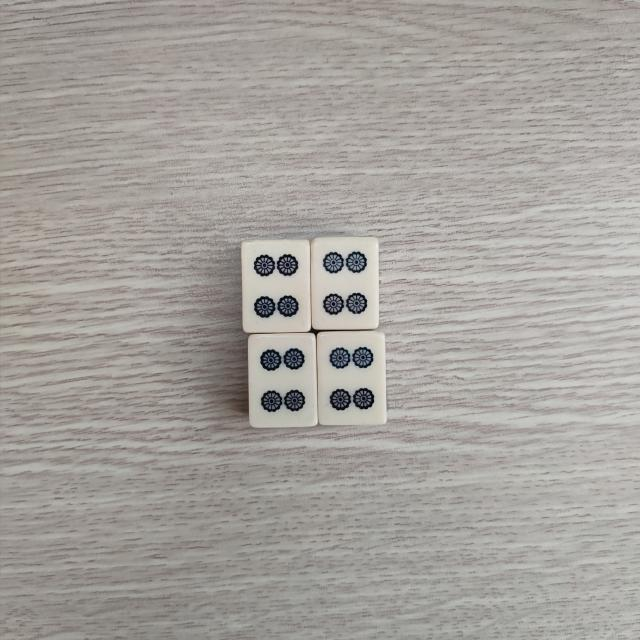sd4: (254, 341, 312, 421), (322, 339, 382, 416), (248, 246, 304, 324), (319, 244, 373, 322)
